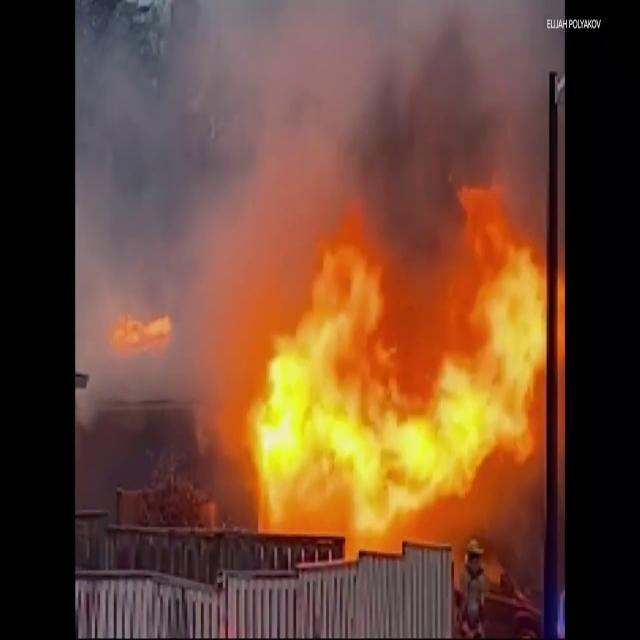Fire: (220, 186, 558, 546), (104, 304, 176, 360)
Smoke: (79, 1, 554, 280)
